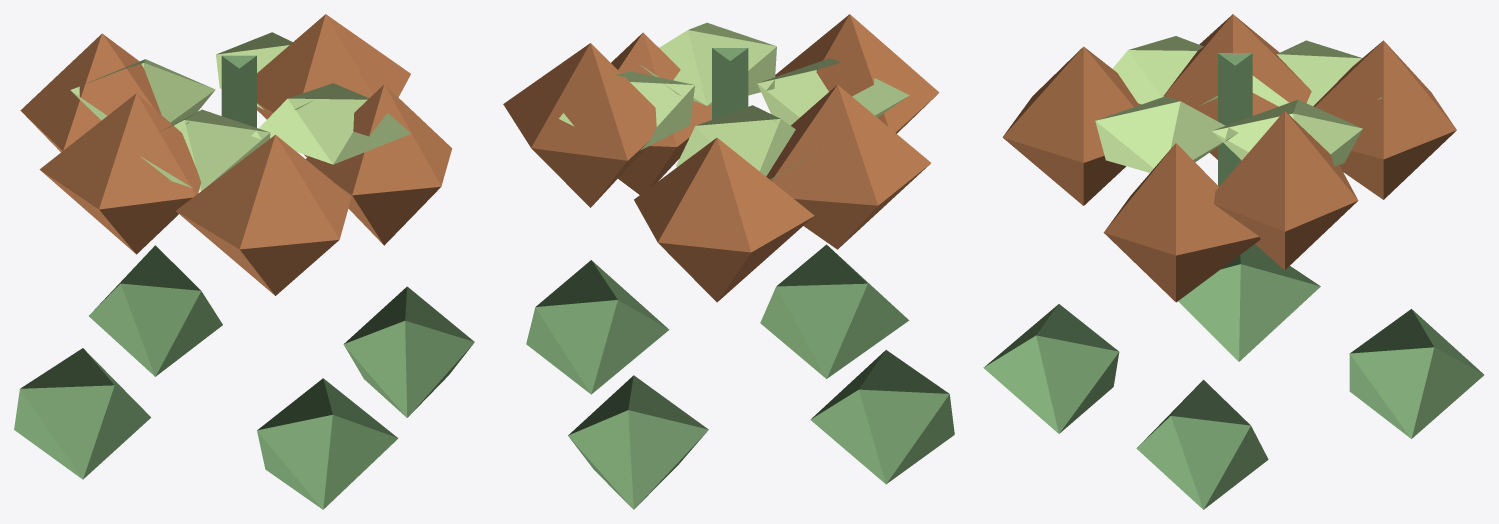
Rendered from shui.lian@fruiting__bloom.glb.
3 views of the same model, side by side, from view 1: azimuth 30°, elevation 25°; view 2: azimuth 150°, elevation 25°; view 3: azimuth 270°, elevation 25° (orthographic). The views are drawn at different scales.
Visible parts, largest first — view 1: shui.lian@fruiting__bloom; view 2: shui.lian@fruiting__bloom; view 3: shui.lian@fruiting__bloom.
Boxes of the visible parts, x1=… form: shui.lian@fruiting__bloom: x1=14, y1=14, x2=474, y2=509; shui.lian@fruiting__bloom: x1=503, y1=14, x2=954, y2=509; shui.lian@fruiting__bloom: x1=983, y1=14, x2=1483, y2=509.
Size of the model in its own units: 1.09 by 0.9148 by 1.09.
